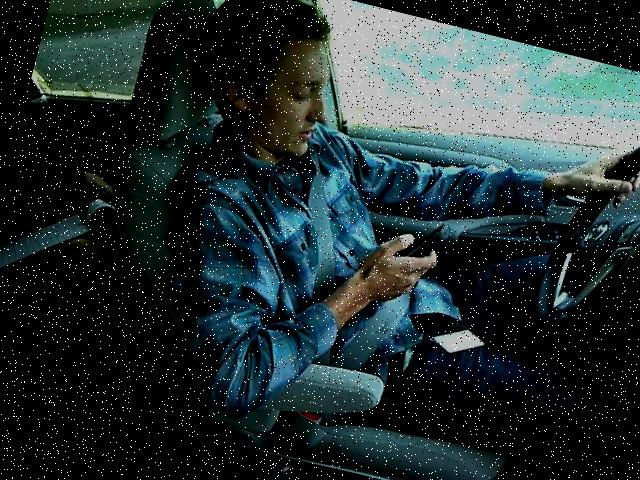c1 - Texting: (110, 0, 639, 479)
